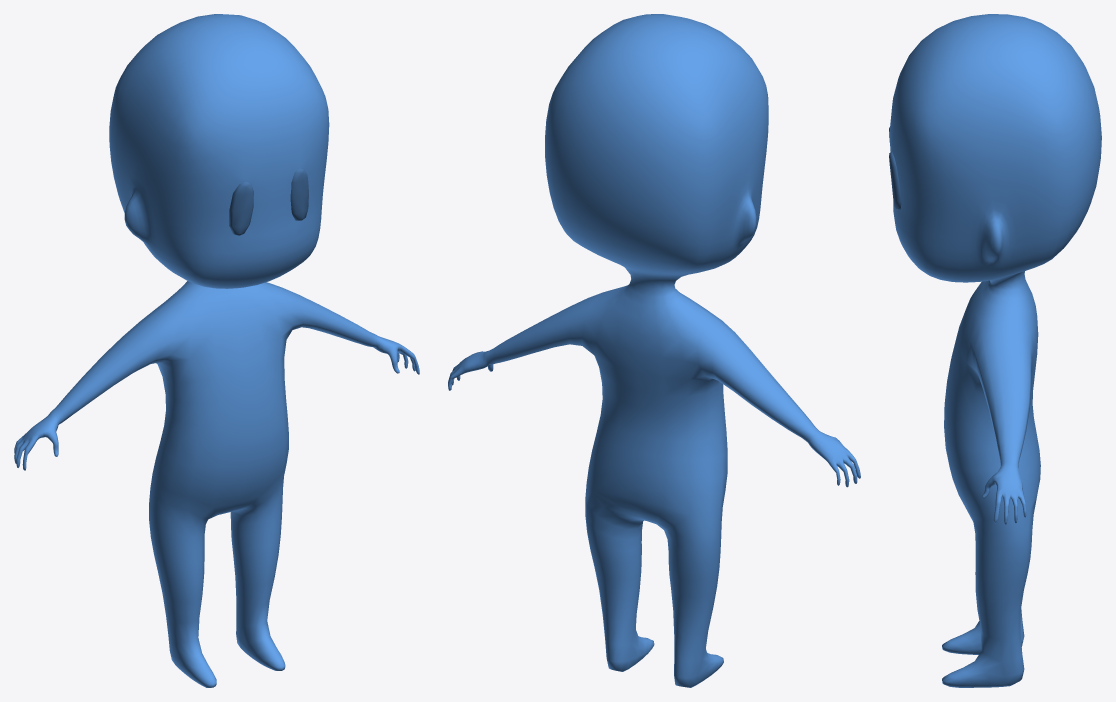
File: Character.fbx
3 views of the same model, side by side, from view 1: azimuth 30°, elevation 25°; view 2: azimuth 150°, elevation 25°; view 3: azimuth 270°, elevation 25° (orthographic).
Visible parts, largest first — view 1: Character; view 2: Character; view 3: Character.
Boxes of the visible parts, x1,y1,x2,y2 form: Character: [14, 14, 419, 687]; Character: [448, 14, 860, 687]; Character: [889, 14, 1101, 687].
Bounding box in the file's own units: 48.13 × 73.55 × 21.99.
